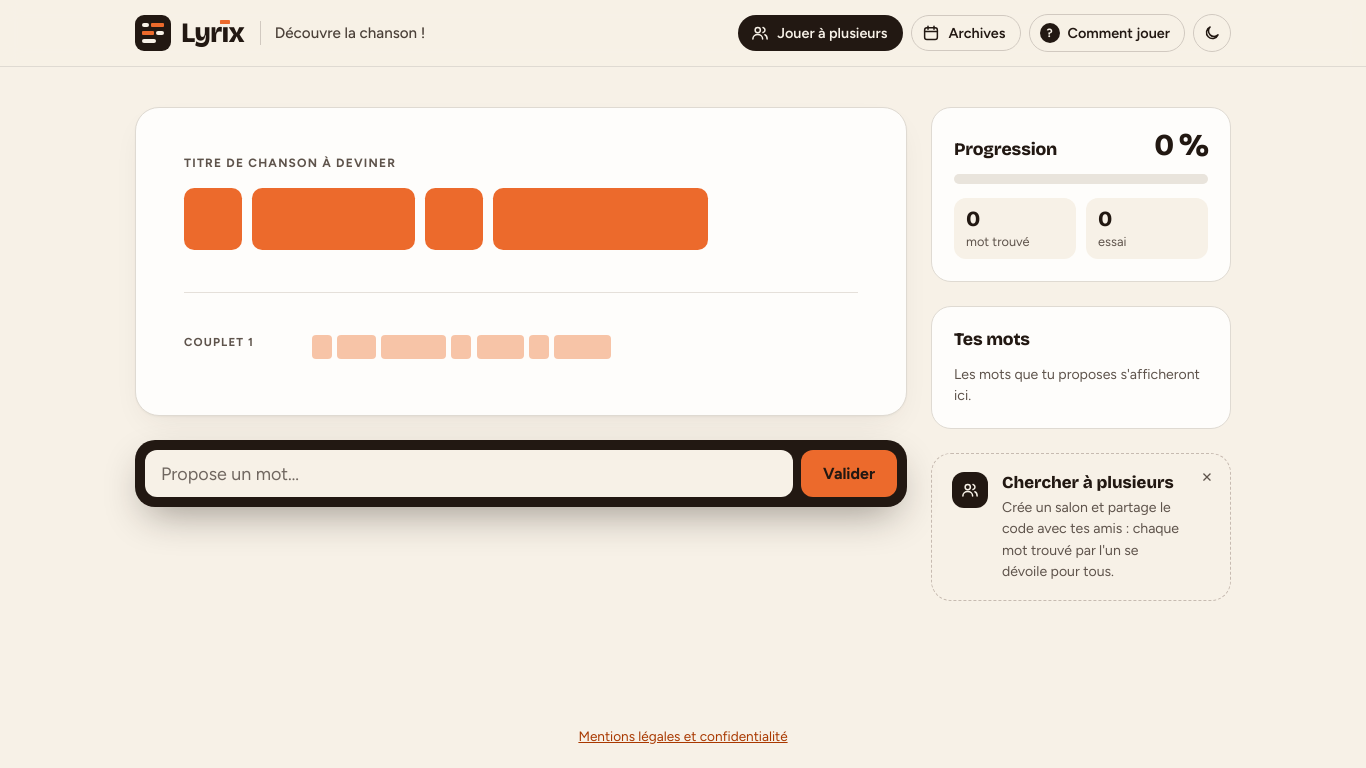
Scenario: the archives screen › opens from the header, at its own address, and goes back to today's song
Check: the field with placeholder "Propose un mot…" is shown, box [145,450,793,497]
Click the button "Archives".
click(966, 33)  # box [911,15,1020,51]
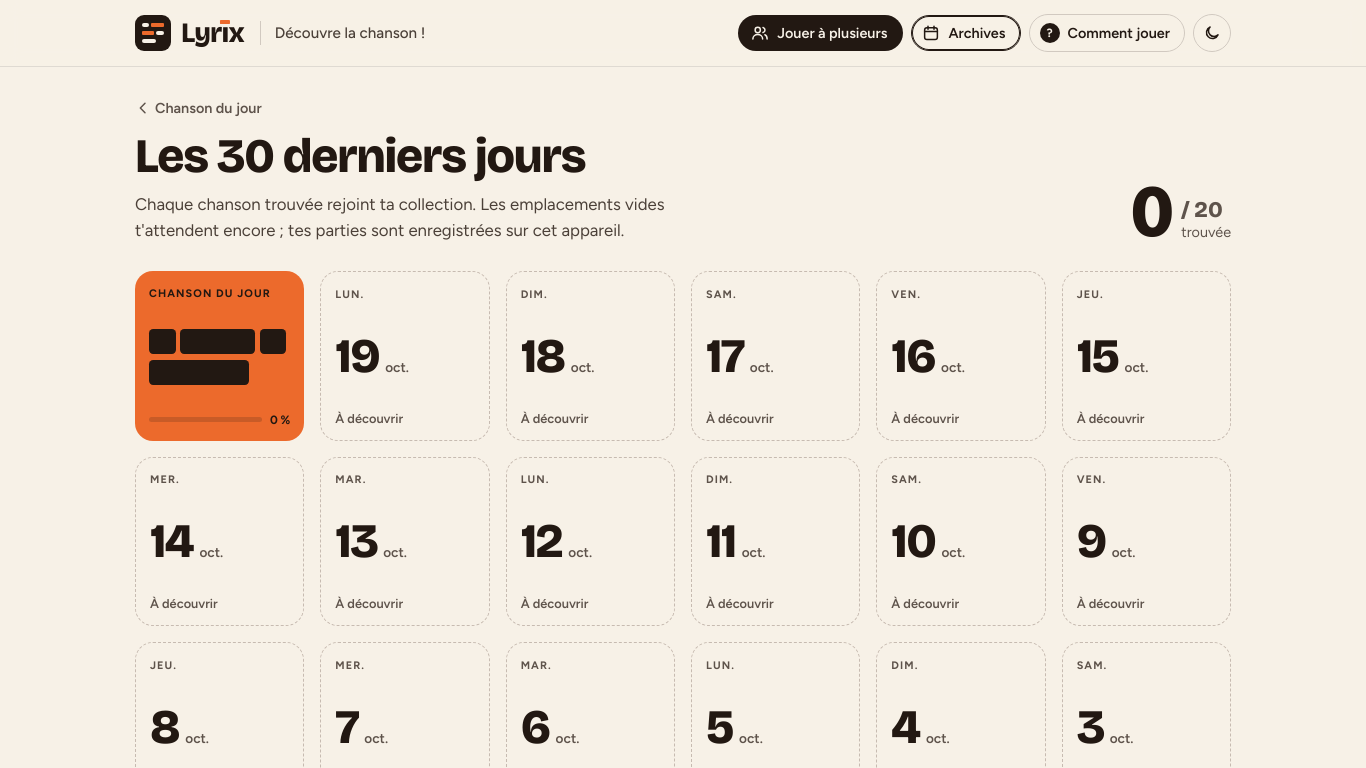
Check: the heading "Les 30 derniers jours" is shown, box [135,127,585,185]
Click the link "Chanson du jour".
click(198, 108)  # box [135,99,262,117]
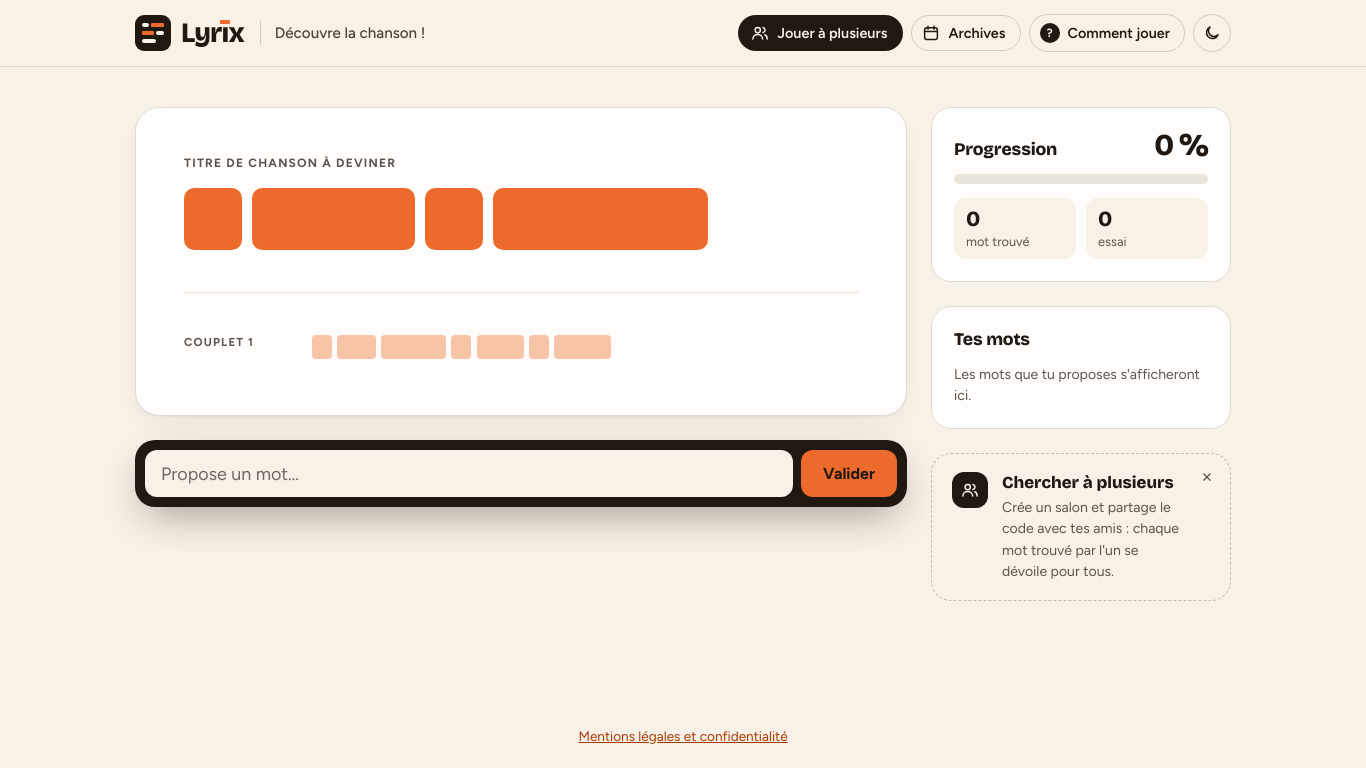
Check: the field with placeholder "Propose un mot…" is shown, box [145,450,793,497]
